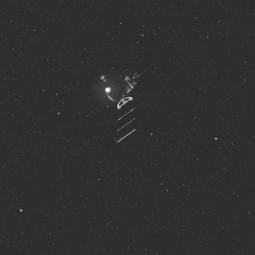earth_observation_sat_1: (88, 62, 149, 141)
